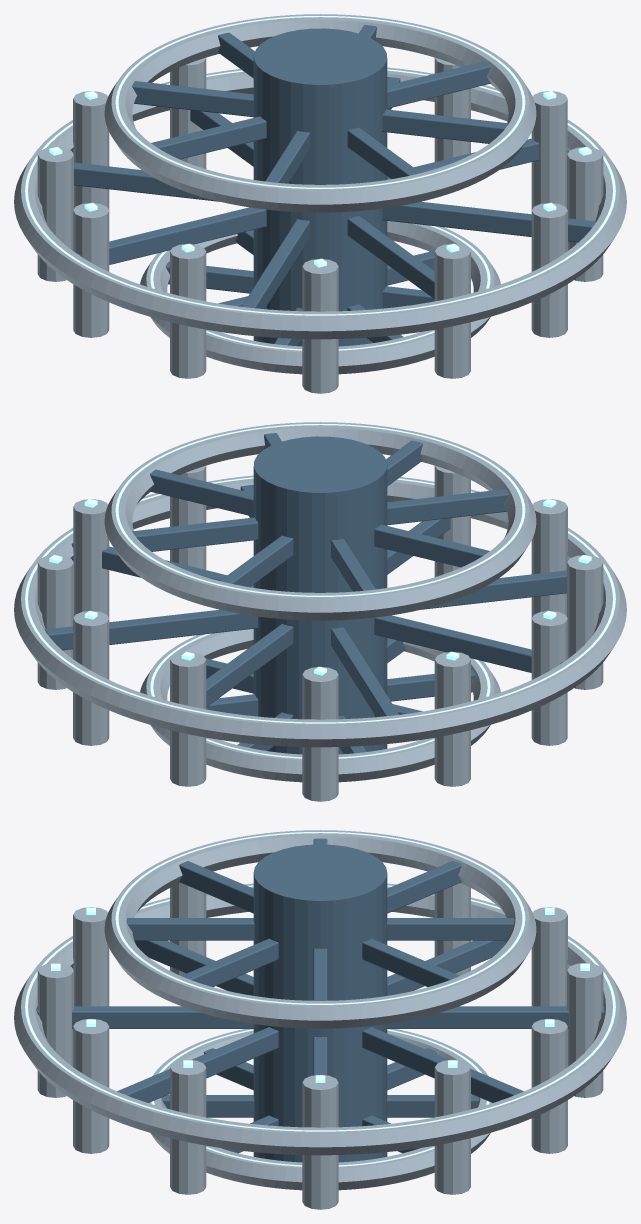
File: station_anchor.glb
The picture shows the model from 3 angles, top to bottom: view 1: azimuth 30°, elevation 25°; view 2: azimuth 150°, elevation 25°; view 3: azimuth 270°, elevation 25°; orthographic projection.
Parts seen in each view (by area): view 1: council_hull.004, council_dark.004, council_glow.004; view 2: council_hull.004, council_dark.004, council_glow.004; view 3: council_hull.004, council_dark.004, council_glow.004.
Boxes of the visible parts, x1,y1,x2,y2 form: council_hull.004: (14,14,626,393); council_dark.004: (72,25,595,346); council_glow.004: (25,16,615,350); council_hull.004: (14,422,626,801); council_dark.004: (45,433,568,754); council_glow.004: (25,424,615,758); council_hull.004: (14,830,626,1209); council_dark.004: (36,838,604,1162); council_glow.004: (25,832,615,1166).
Bounding box in the file's own units: 440 × 230 × 440.
